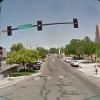Traffic light: (5, 18, 81, 39)
